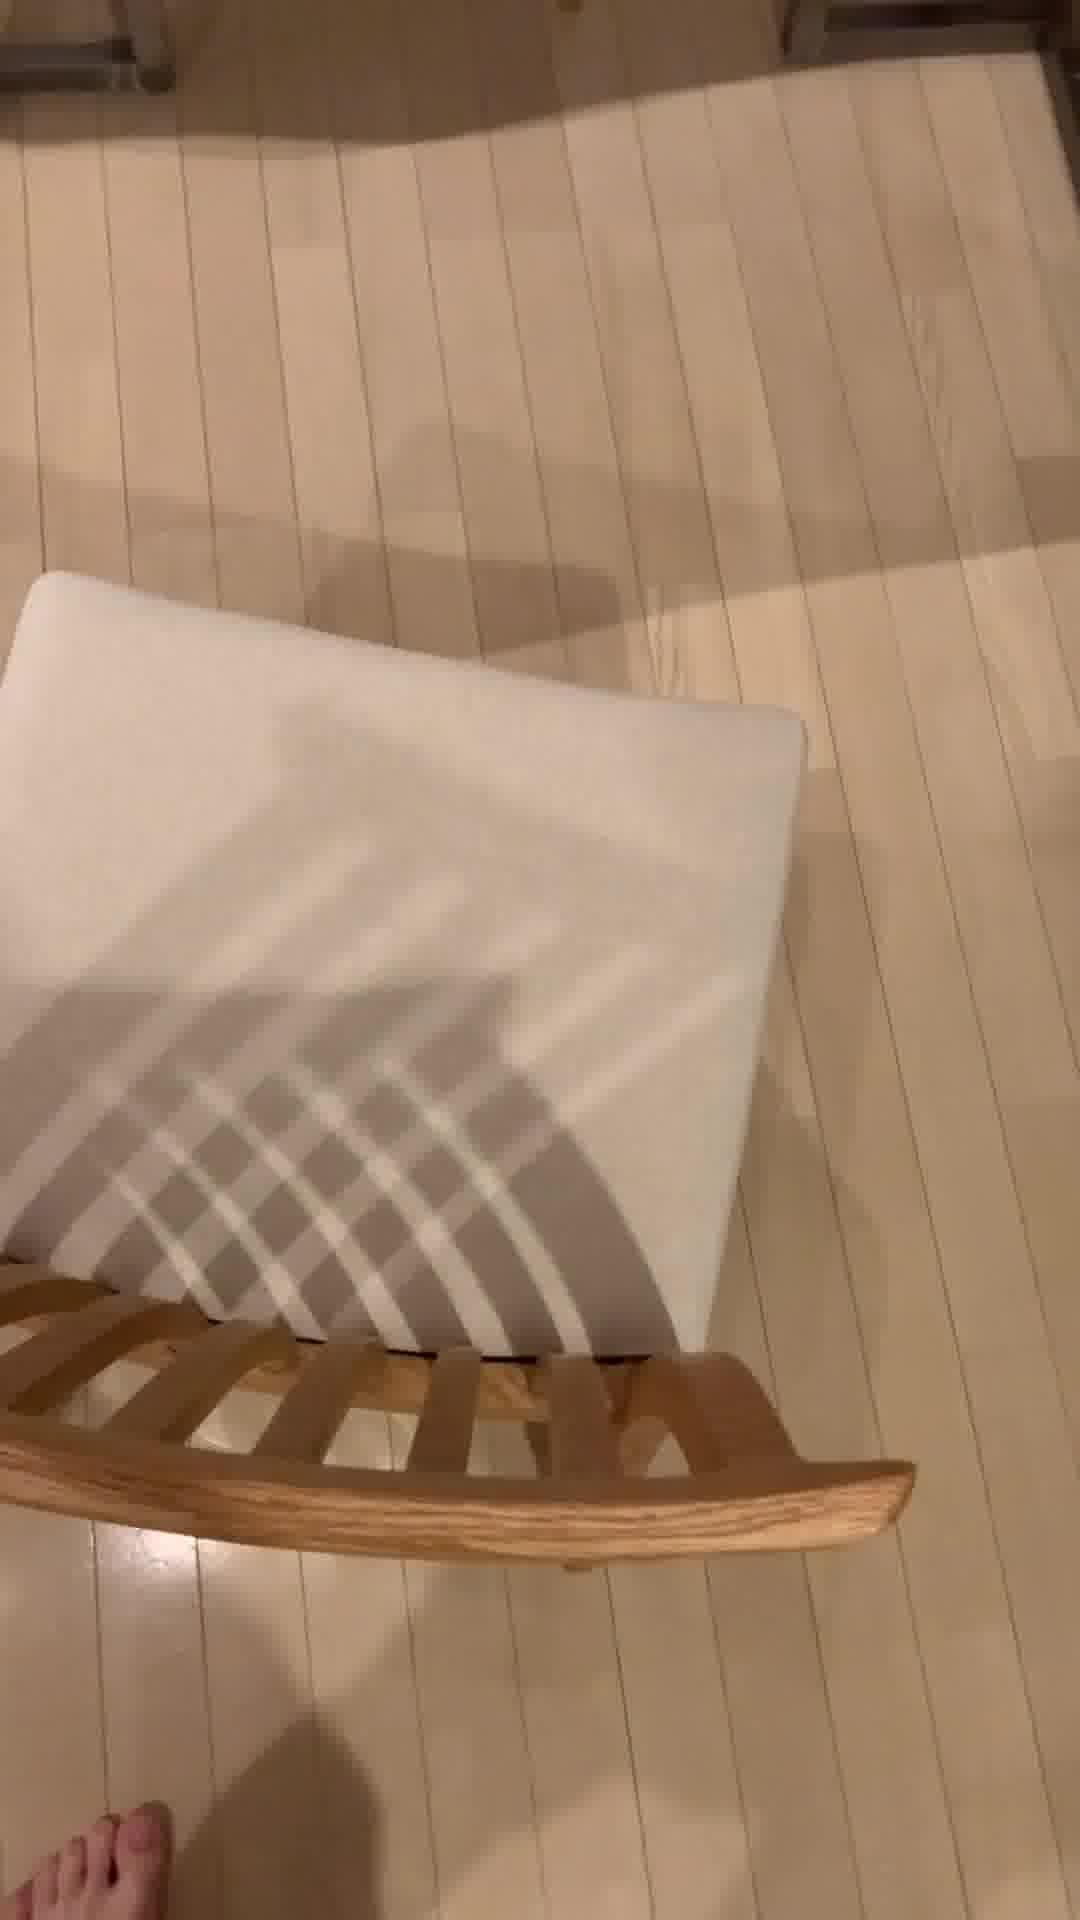takumikan-chair: (0, 572, 918, 1586)
